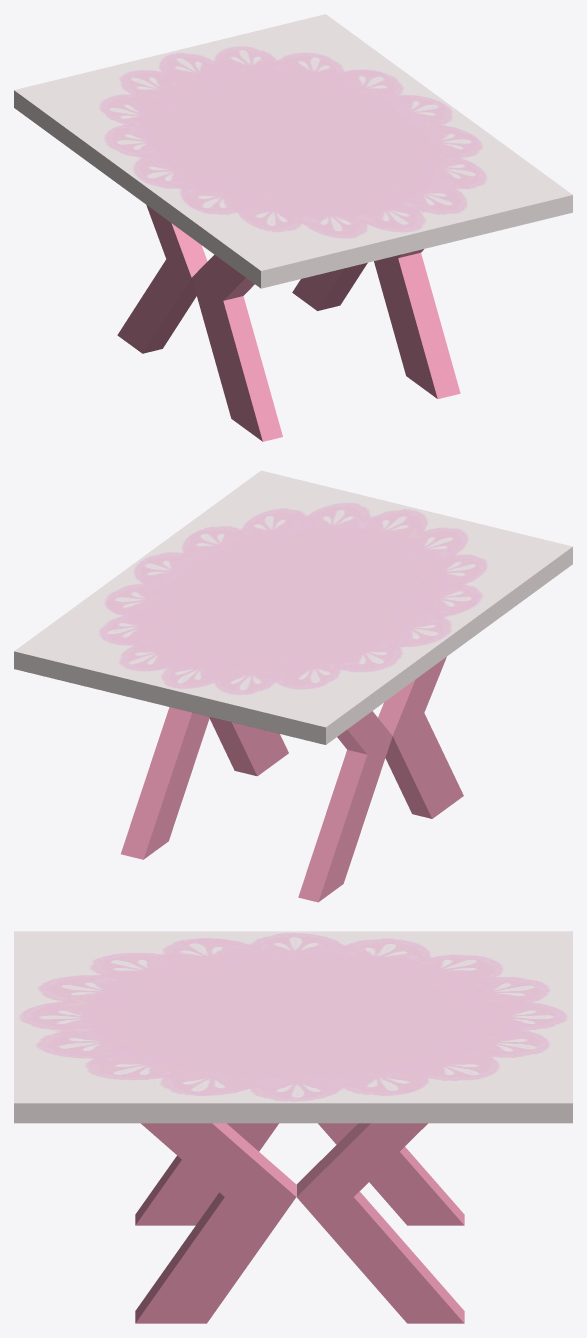
The model's file is Mesa_Model.fbx.
3 renders of one model, top to bottom at view 1: azimuth 30°, elevation 25°; view 2: azimuth 150°, elevation 25°; view 3: azimuth 270°, elevation 25°, orthographic. The views are drawn at different scales.
Visible parts, largest first — view 1: MesaCuadrada; view 2: MesaCuadrada; view 3: MesaCuadrada.
Part boxes in pixels (x1,y1,x2,y2): MesaCuadrada: (14, 14, 572, 441); MesaCuadrada: (14, 470, 572, 902); MesaCuadrada: (14, 931, 572, 1323).
Bounding box in the file's own units: 4.31 × 2.95 × 5.91.
